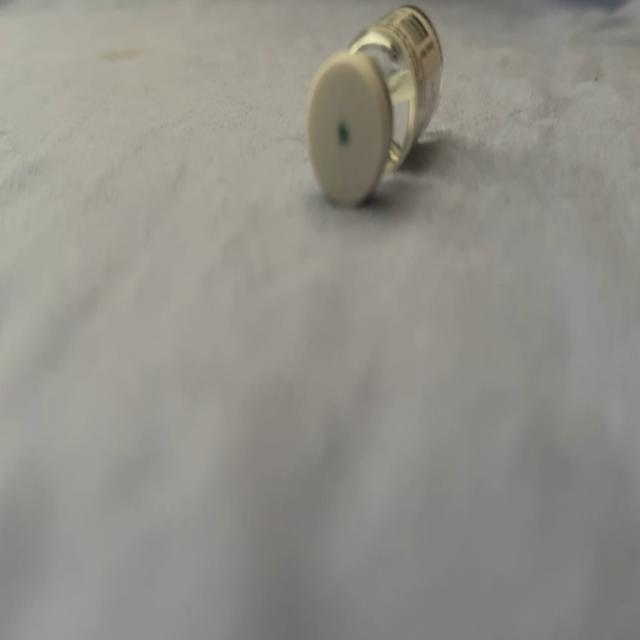fentanl_citrat: (308, 10, 442, 204)
